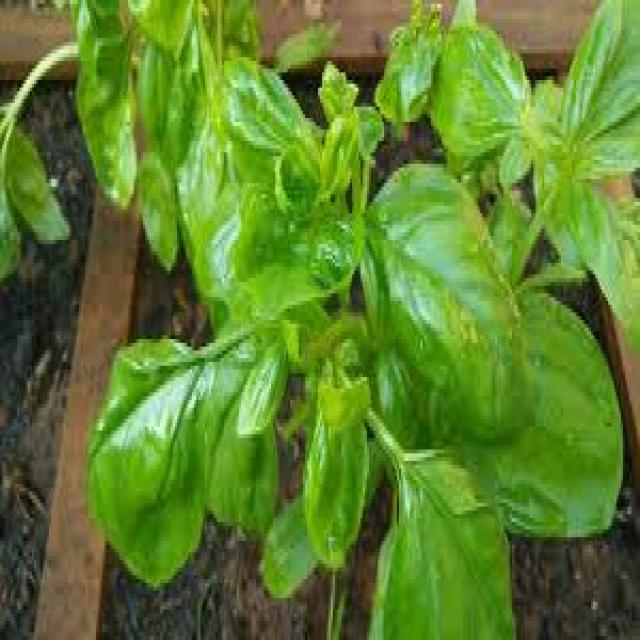Sweet Basil: (107, 0, 638, 636)
